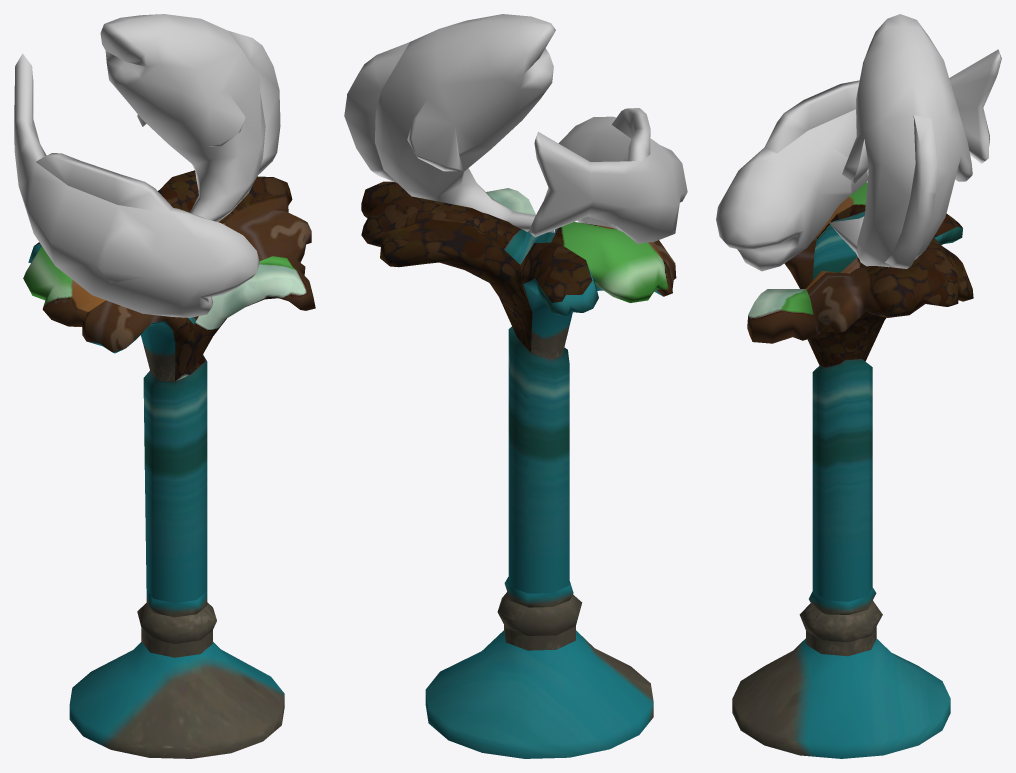
The model's file is zodiac_pisces.fbx.
3 renders of one model, left to right at view 1: azimuth 30°, elevation 25°; view 2: azimuth 150°, elevation 25°; view 3: azimuth 270°, elevation 25°, orthographic. The views are drawn at different scales.
Visible parts, largest first — view 1: Pole_low__mBody, Fish00_low__mLight; view 2: Pole_low__mBody, Fish00_low__mLight; view 3: Pole_low__mBody, Fish00_low__mLight.
Boxes of the visible parts, x1,y1,x2,y2 form: Pole_low__mBody: [23, 170, 315, 758]; Fish00_low__mLight: [14, 14, 280, 317]; Pole_low__mBody: [361, 181, 676, 758]; Fish00_low__mLight: [344, 14, 687, 244]; Pole_low__mBody: [732, 182, 973, 758]; Fish00_low__mLight: [716, 14, 1001, 271].
Bounding box in the file's own units: 184 × 437 × 166.
